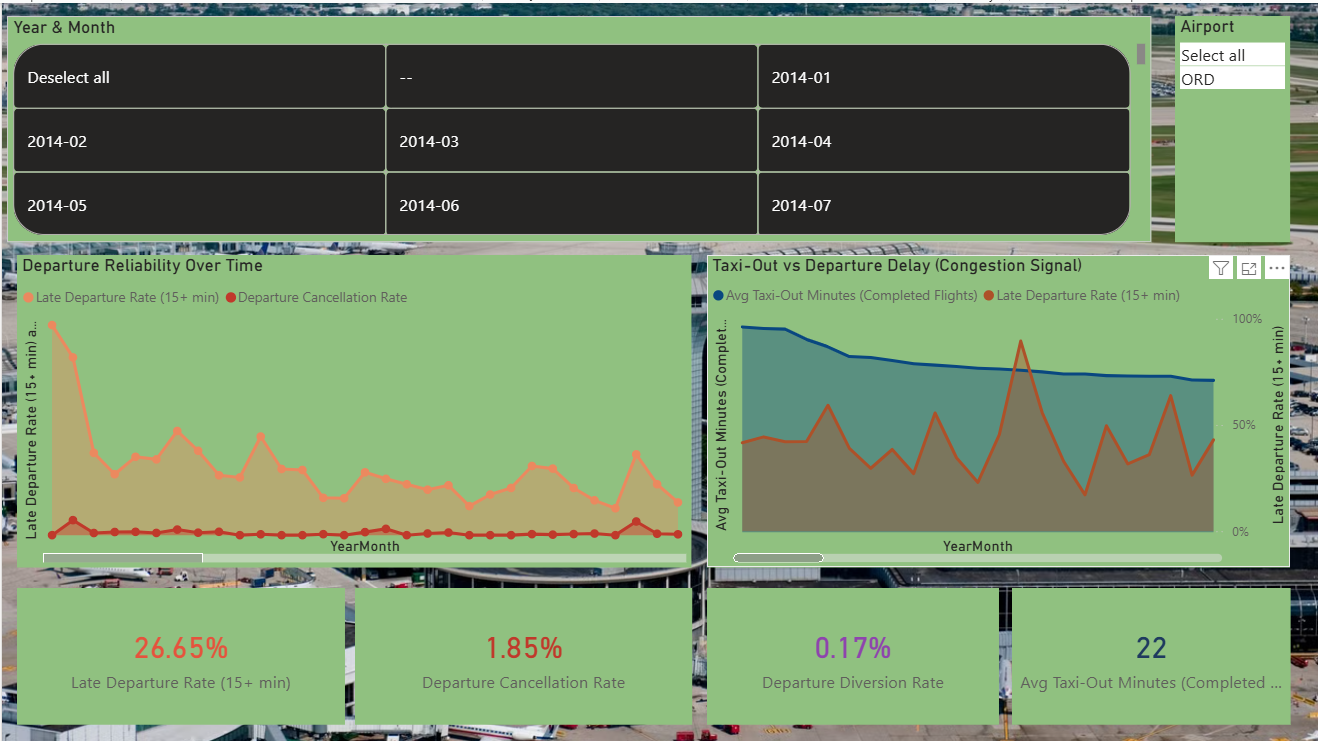

This screenshot's page, from the dashboard's own definition file:
{"tool":"powerbi","page":{"name":"Departure Performance","canvas":[1280,720],"ordinal":1},"visuals":[{"type":"listSlicer","title":"Airport","fields":{"Values":["Dim_Airport.AirportCode"]},"box":[1141,13,112,220],"z":0},{"type":"card","fields":{"Values":["Fact_Departures_ORD.Dep D15 Rate"]},"box":[15,569,319,133],"z":1000},{"type":"lineChart","title":"Departure Reliability Over Time","fields":{"Category":["Dim_Date.YearMonth"],"Y":["Fact_Departures_ORD.Dep D15 Rate","Fact_Departures_ORD.Dep Cancellation Rate"]},"box":[15,245,656,304],"z":5000},{"type":"lineChart","title":"Taxi-Out vs Departure Delay (Congestion Signal)","fields":{"Category":["Dim_Date.YearMonth"],"Y":["Fact_Departures_ORD.Avg Taxi-Out Minutes (Completed Only)"],"Y2":["Fact_Departures_ORD.Dep D15 Rate"]},"box":[686,245,567,304],"z":6000},{"type":"advancedSlicerVisual","title":"Year & Month","fields":{"Values":["Dim_Date.YearMonth"]},"box":[5,13,1113,220],"z":7000},{"type":"card","fields":{"Values":["Fact_Departures_ORD.Dep Cancellation Rate"]},"box":[343,569,328,133],"z":7001},{"type":"card","fields":{"Values":["Fact_Departures_ORD.Dep Diversion Rate"]},"box":[686,569,284,133],"z":7002},{"type":"card","fields":{"Values":["Fact_Departures_ORD.Avg Taxi-Out Minutes (Completed Only)"]},"box":[982,569,271,133],"z":7003}]}

Visuals, with their boxes in screenshot pixels (x1, y1, x2, y2), scaled from the page's 1280x720 canvas onto the 1318x741 screenshot:
"Airport" listSlicer: {"left": 1175, "top": 13, "right": 1290, "bottom": 240}
card - Fact_Departures_ORD.Dep D15 Rate: {"left": 15, "top": 586, "right": 344, "bottom": 722}
"Departure Reliability Over Time" lineChart: {"left": 15, "top": 252, "right": 691, "bottom": 565}
"Taxi-Out vs Departure Delay (Congestion Signal)" lineChart: {"left": 706, "top": 252, "right": 1290, "bottom": 565}
"Year & Month" advancedSlicerVisual: {"left": 5, "top": 13, "right": 1151, "bottom": 240}
card - Fact_Departures_ORD.Dep Cancellation Rate: {"left": 353, "top": 586, "right": 691, "bottom": 722}
card - Fact_Departures_ORD.Dep Diversion Rate: {"left": 706, "top": 586, "right": 999, "bottom": 722}
card - Fact_Departures_ORD.Avg Taxi-Out Minutes (Completed Only): {"left": 1011, "top": 586, "right": 1290, "bottom": 722}
